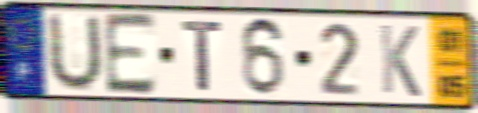2: (317, 20, 362, 98)
6: (238, 14, 291, 101)
E: (101, 11, 158, 98)
K: (377, 22, 423, 100)
T: (179, 19, 226, 94)
U: (46, 10, 106, 95)
